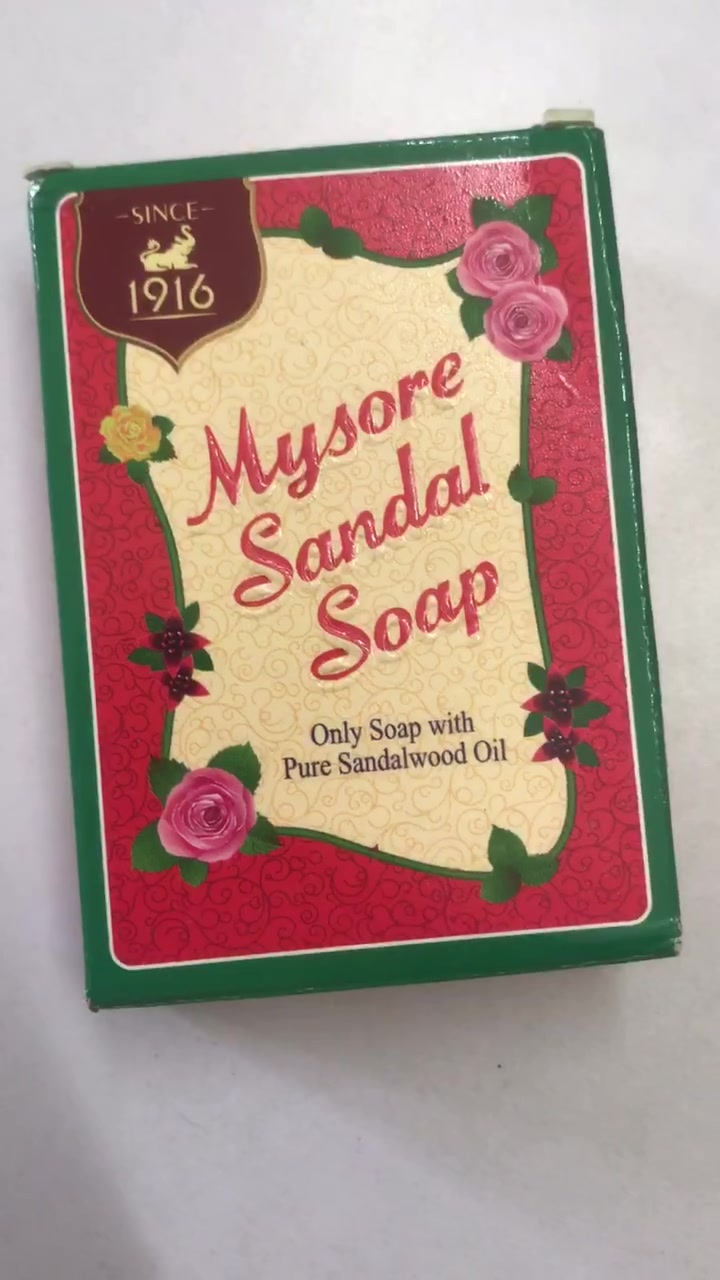mysore sandal soap: (33, 125, 680, 1010)
